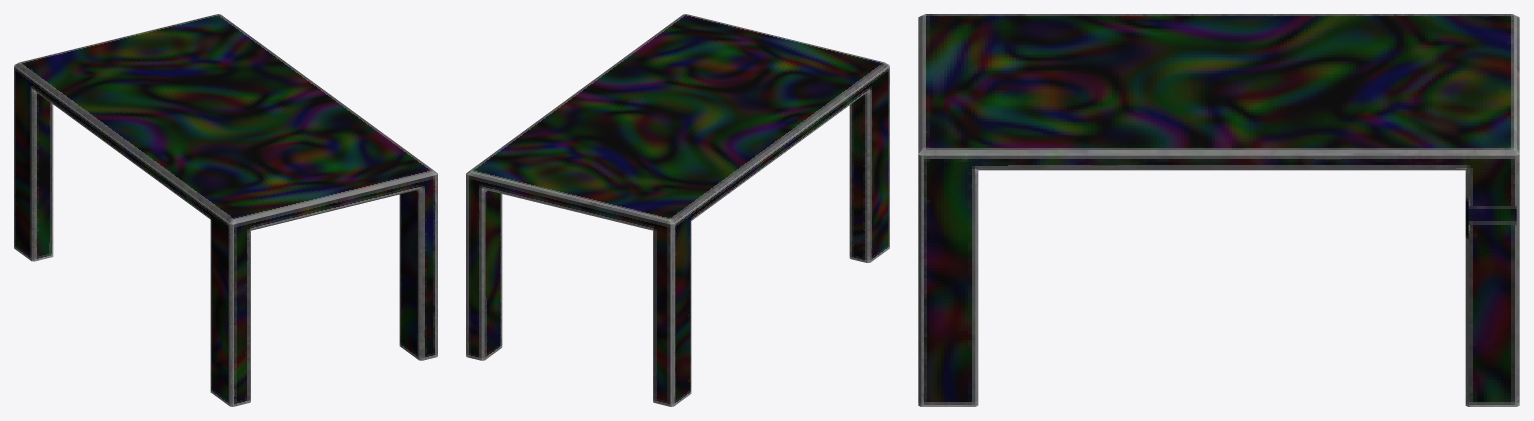
File: Desk.glb
3 views of the same model, side by side, from view 1: azimuth 30°, elevation 25°; view 2: azimuth 150°, elevation 25°; view 3: azimuth 270°, elevation 25° (orthographic). The views are drawn at different scales.
Visible parts, largest first — view 1: desk; view 2: desk; view 3: desk.
Boxes of the visible parts, x1,y1,x2,y2 form: desk: (14, 14, 437, 406); desk: (466, 14, 889, 406); desk: (918, 14, 1519, 406).
Size of the model in its own units: 2.15 by 1.83 by 3.91.
1 material, 1 textured.
